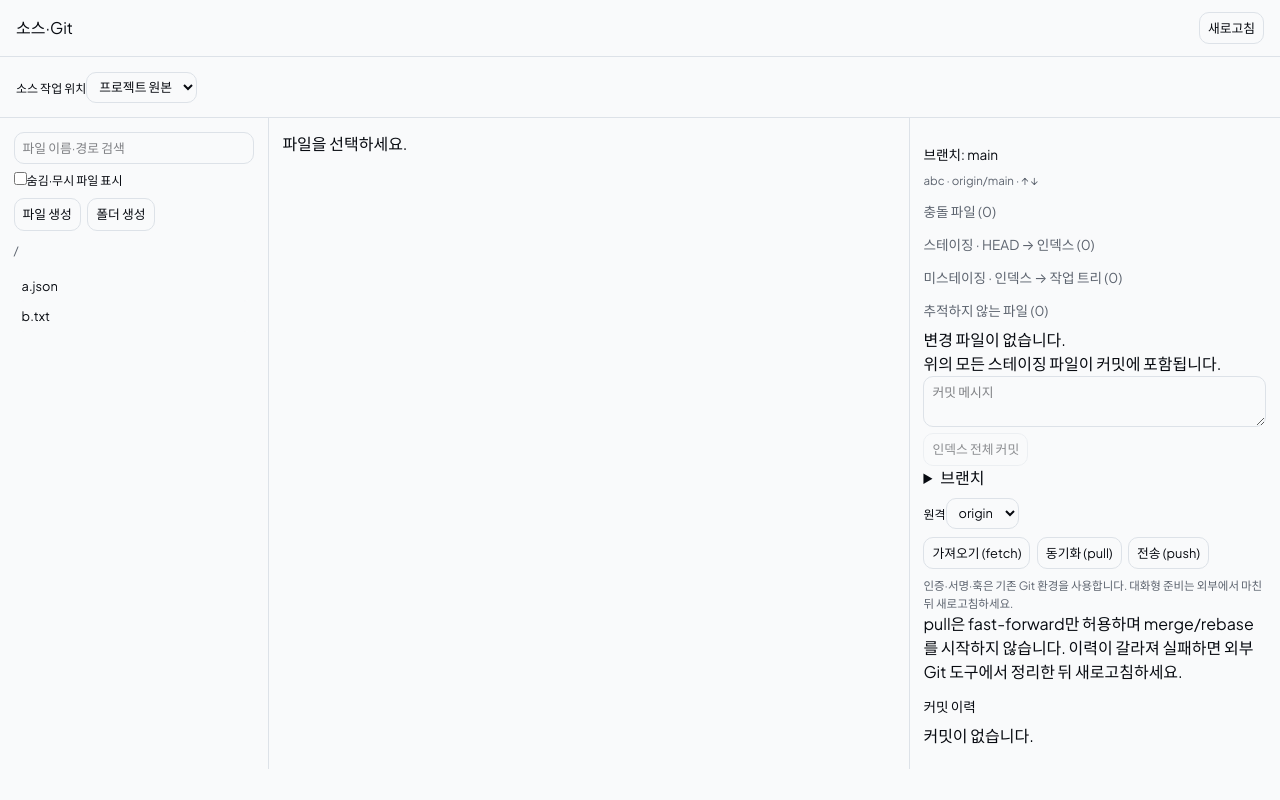
shows the actual safe remote destinations before confirming a push
This screenshot has width=1280, height=800.
Step 1. Click the button "전송 (push)" → (1168, 553), box [1128, 537, 1209, 569]
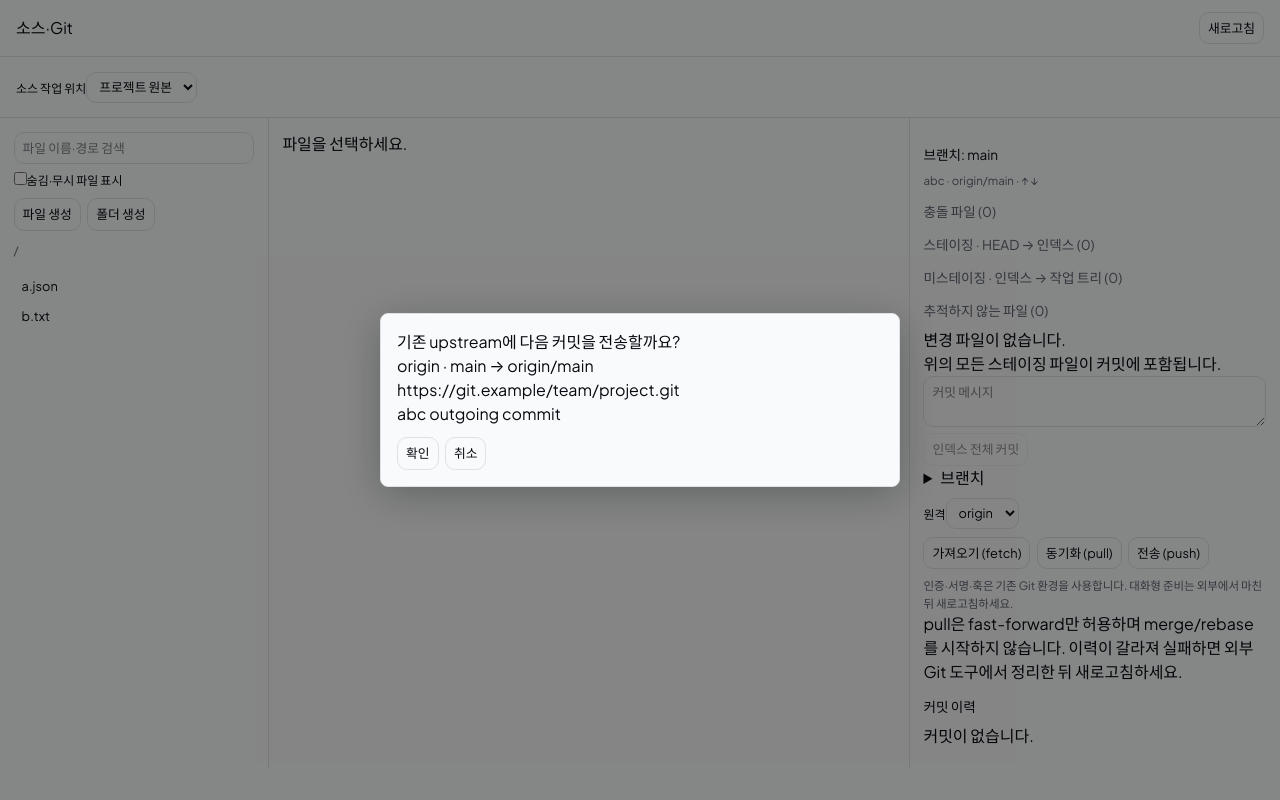
Expected: the text "https://git.example/team/project.git" is shown, [397, 379, 680, 400]
